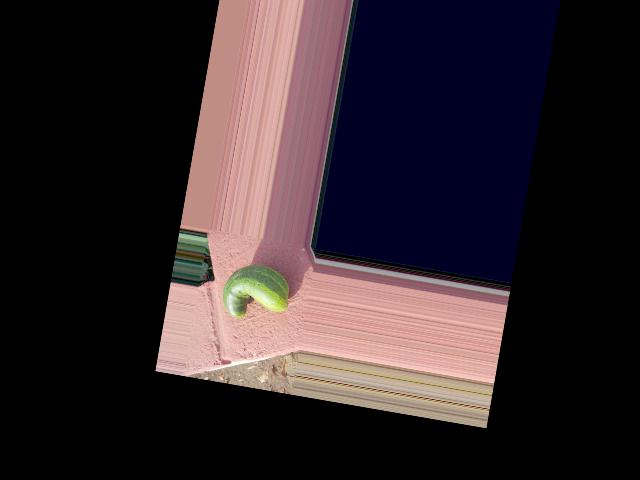cucumber: (219, 260, 293, 327)
